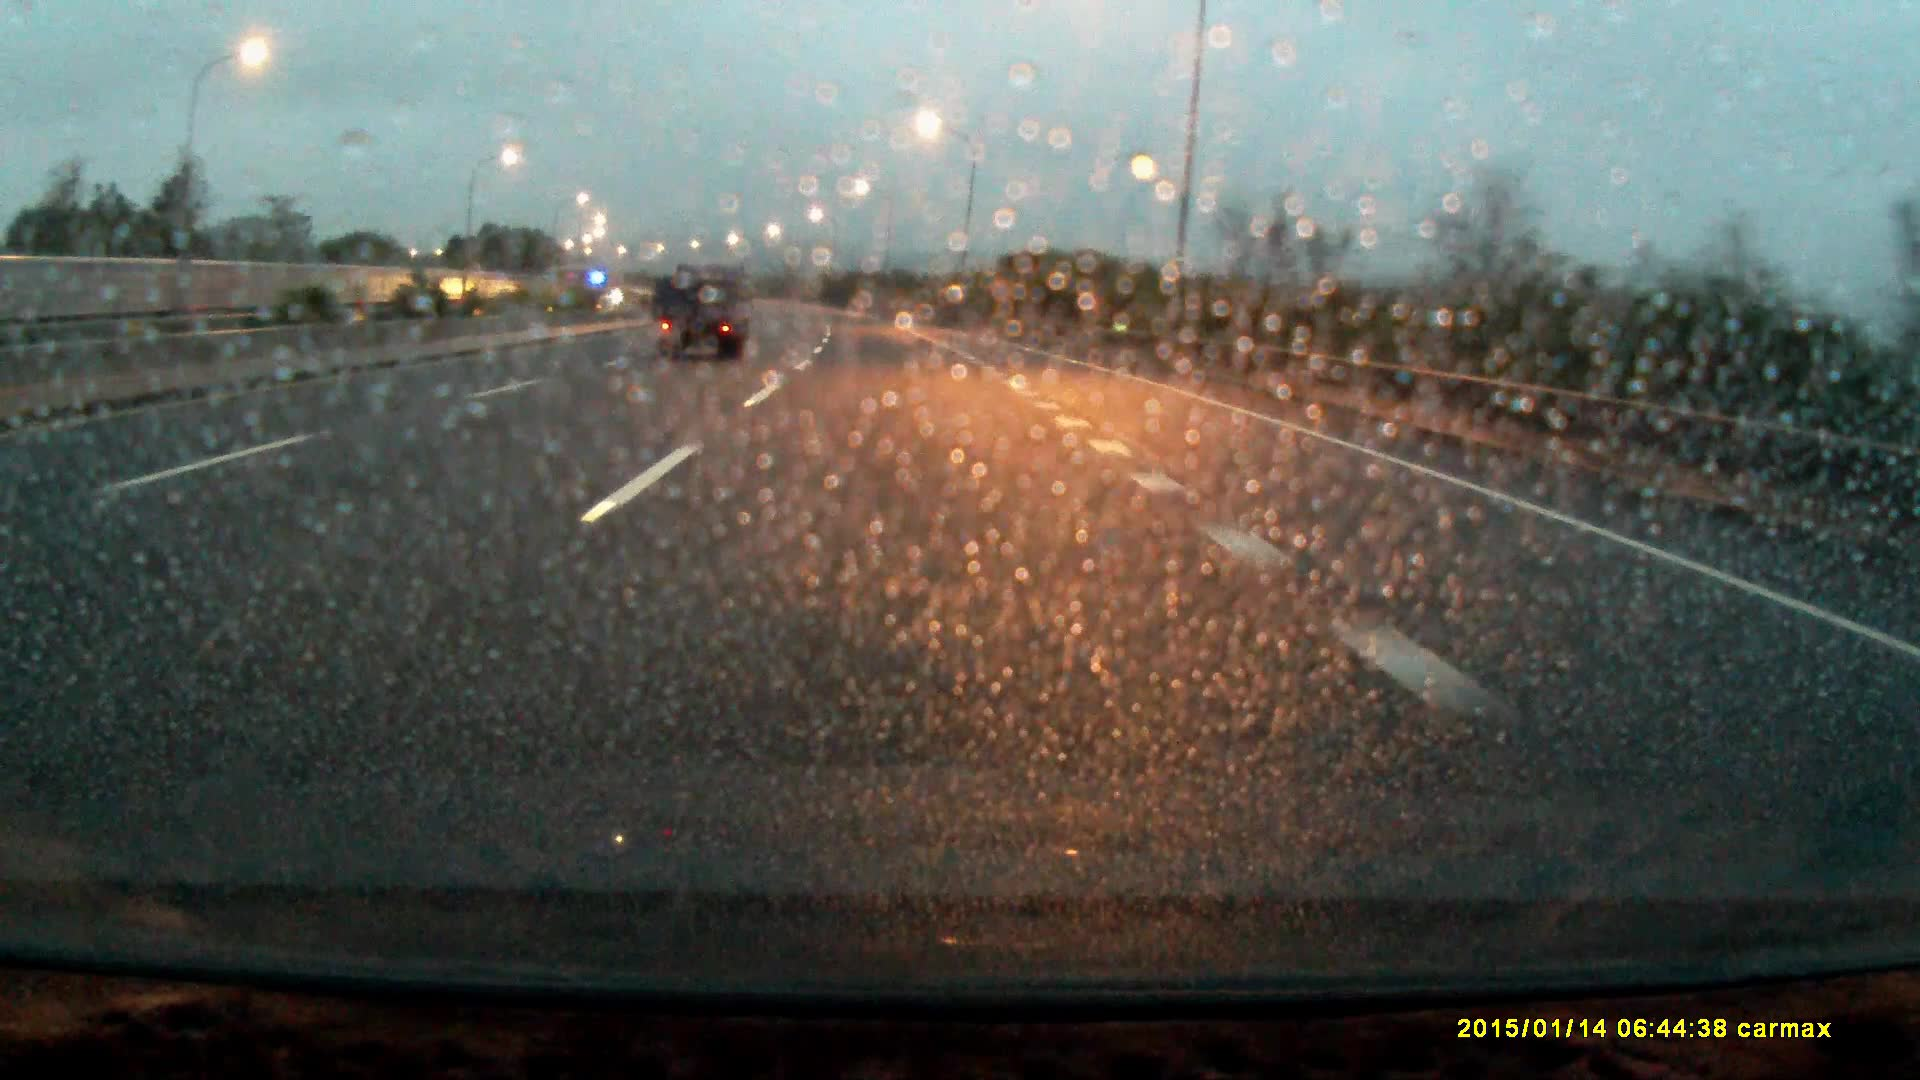vehicle: (657, 260, 753, 364)
